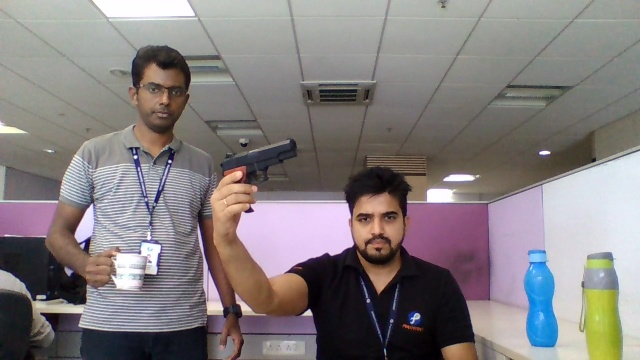gun: (219, 149, 297, 183)
